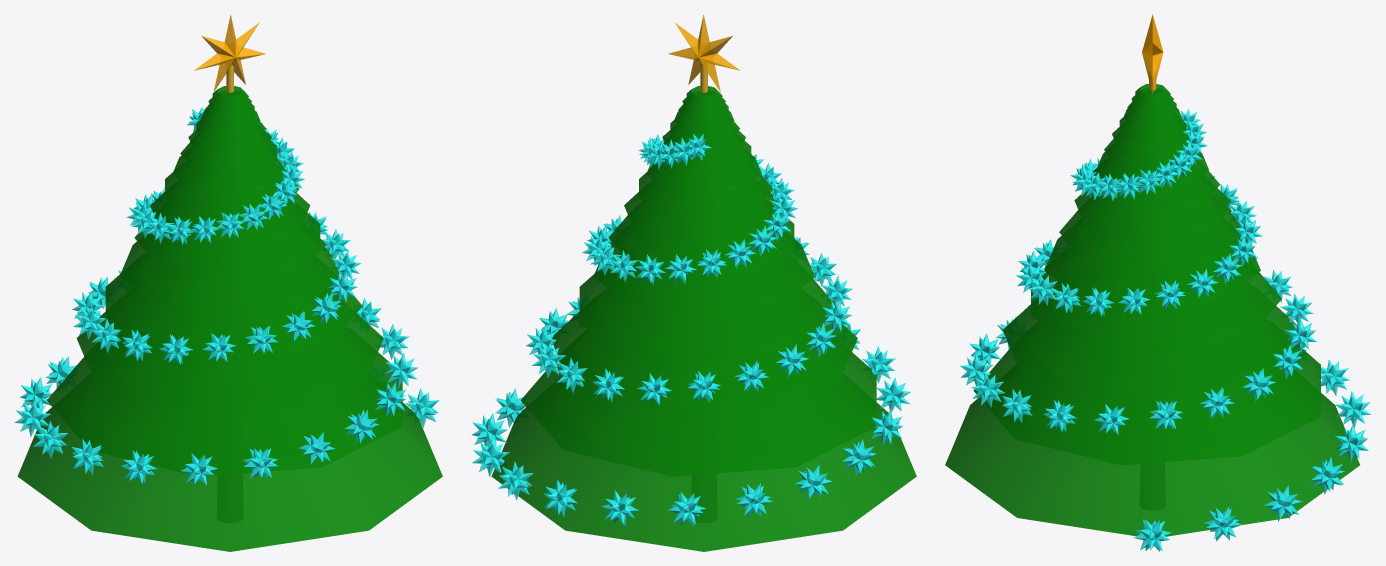
File: fractaltreec.glb
3 views of the same model, side by side, from view 1: azimuth 30°, elevation 25°; view 2: azimuth 150°, elevation 25°; view 3: azimuth 270°, elevation 25° (orthographic). The views are drawn at different scales.
Size of the model in its own units: 10.05 by 12.34 by 9.72.
